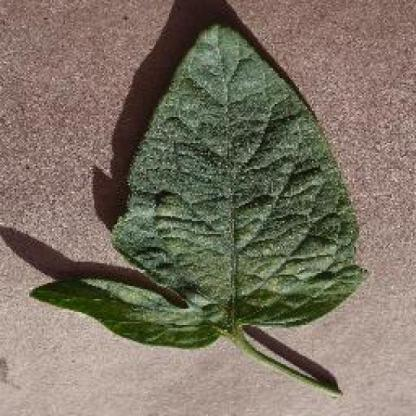Tomato_Spider_Mites: (32, 24, 369, 345)
